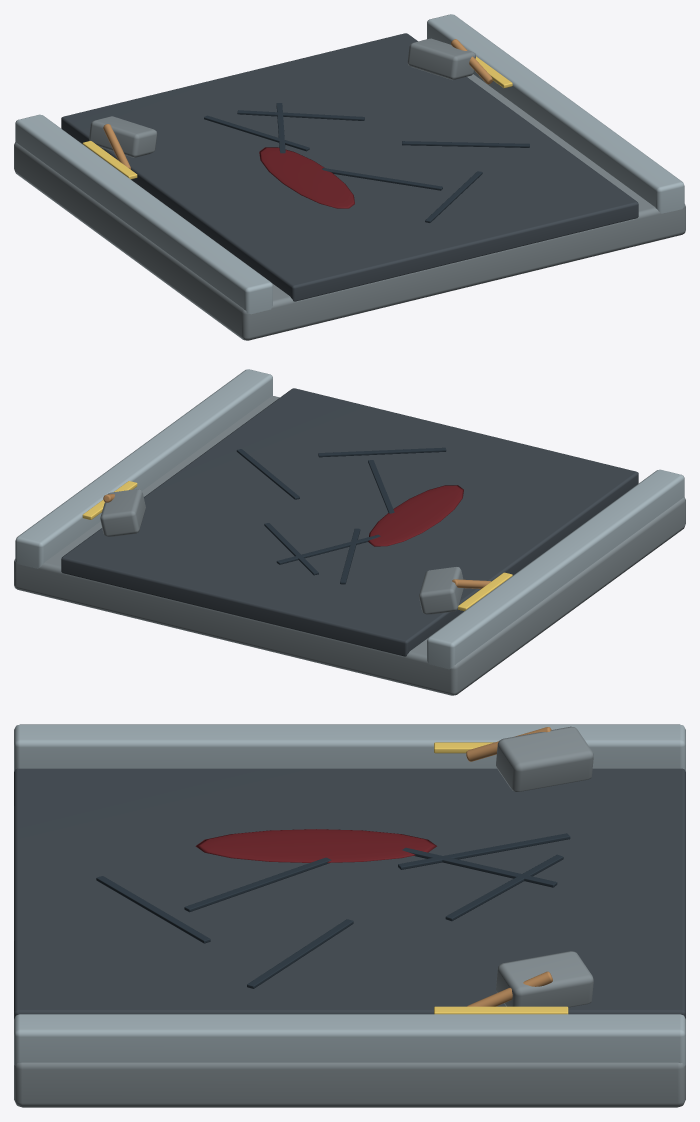
File: 17_road_ruined.glb
3 renders of one model, top to bottom at view 1: azimuth 30°, elevation 25°; view 2: azimuth 150°, elevation 25°; view 3: azimuth 270°, elevation 25°, orthographic. The views are drawn at different scales.
Parts seen in each view (by area): view 1: Road surface, Foundation, Curb, Fracture, Dragged remains, Lane light, Exposed rebar; view 2: Road surface, Foundation, Curb, Dragged remains, Fracture, Lane light; view 3: Road surface, Curb, Foundation, Dragged remains, Fracture, Lane light, Exposed rebar.
Part boxes in pixels (x1,y1,x2,y2): Road surface: (61, 33, 638, 301); Foundation: (14, 38, 685, 340); Curb: (15, 14, 684, 314); Fracture: (204, 103, 529, 222); Dragged remains: (259, 147, 354, 208); Lane light: (82, 56, 512, 179); Exposed rebar: (103, 39, 493, 169); Road surface: (61, 388, 638, 656); Foundation: (14, 396, 685, 695); Curb: (15, 369, 684, 669); Dragged remains: (368, 485, 463, 546); Fracture: (236, 447, 446, 584); Lane light: (82, 481, 512, 611); Road surface: (14, 768, 685, 1018); Curb: (14, 724, 685, 1065); Foundation: (14, 726, 685, 1107); Dragged remains: (195, 829, 436, 862); Fracture: (96, 833, 570, 988); Lane light: (434, 742, 568, 1014); Exposed rebar: (466, 727, 552, 1006).
Bounding box in the file's own units: 2.2 × 0.3436 × 2.
